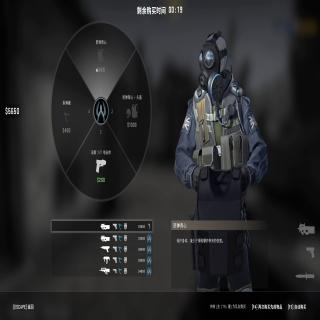CT-Body: (174, 31, 268, 226)
CT-Head: (198, 33, 228, 86)
